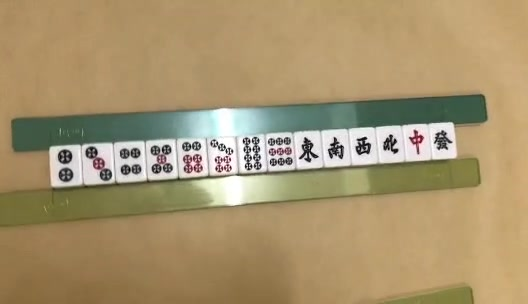1z: (297, 138, 319, 165)
2p: (58, 149, 74, 184)
2z: (326, 138, 348, 162)
3p: (84, 146, 114, 182)
3z: (354, 134, 375, 159)
4p: (118, 144, 144, 175)
4z: (381, 135, 403, 158)
5p: (149, 141, 175, 176)
6p: (179, 141, 203, 175)
6z: (432, 129, 453, 152)
7p: (209, 139, 234, 174)
7z: (408, 129, 426, 157)
8p: (239, 132, 263, 173)
9p: (268, 135, 293, 166)
